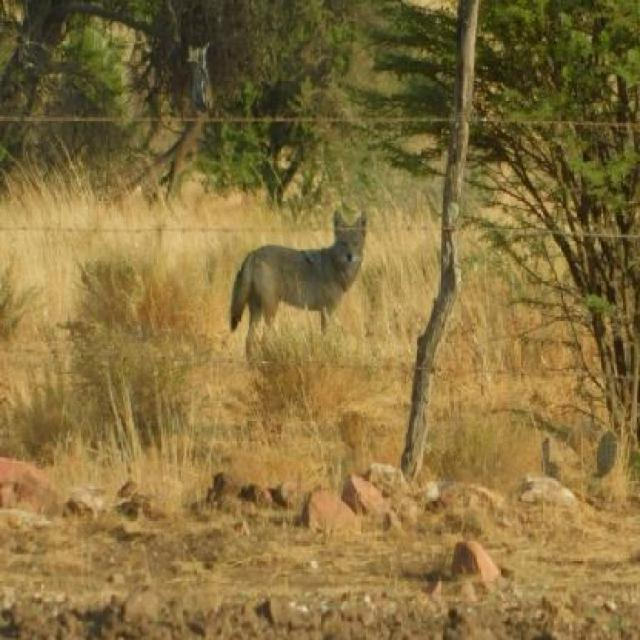Coyote: (230, 212, 368, 354)
